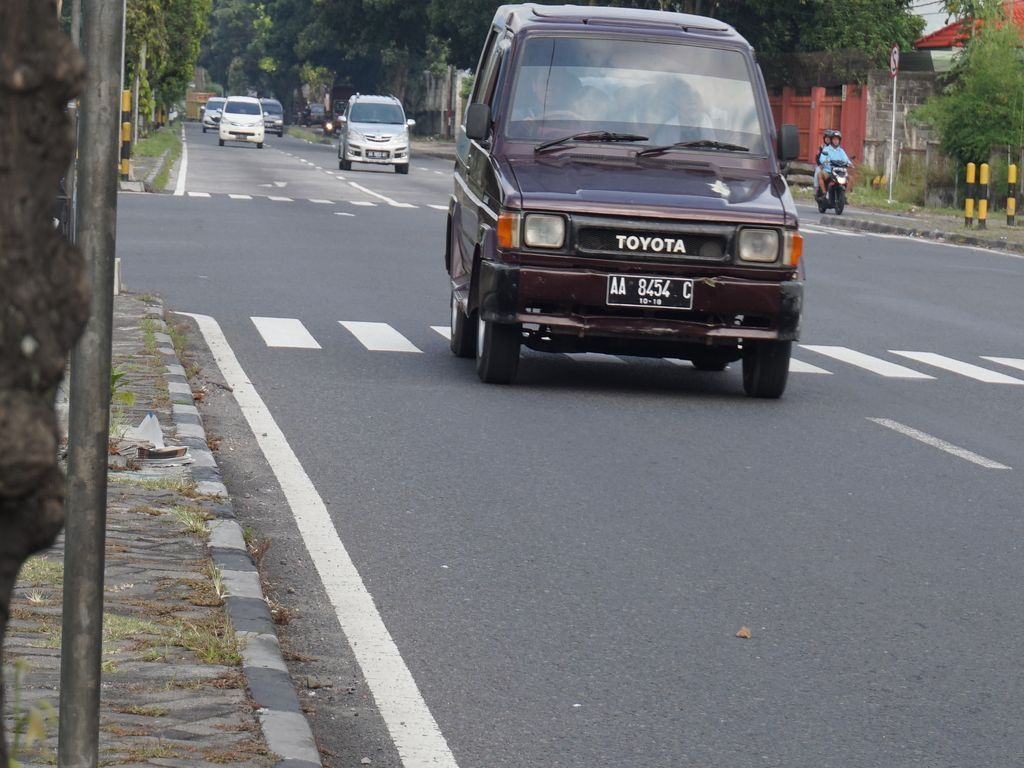plate: (609, 278, 690, 303)
